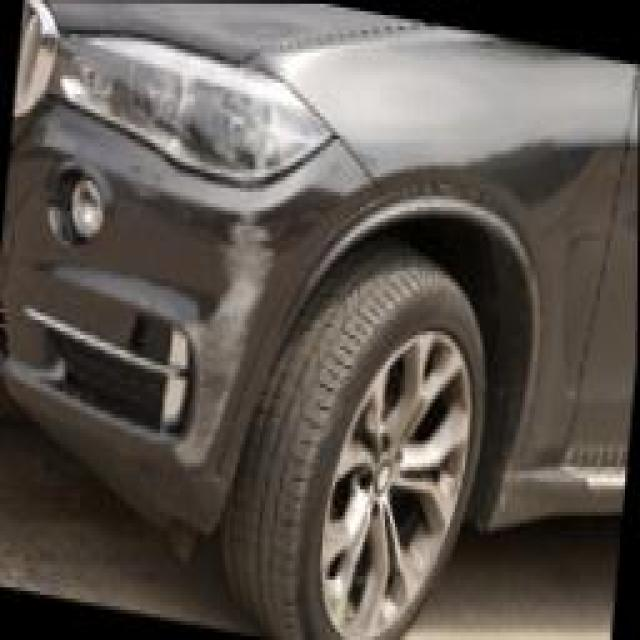Bumper: (75, 129, 381, 537)
